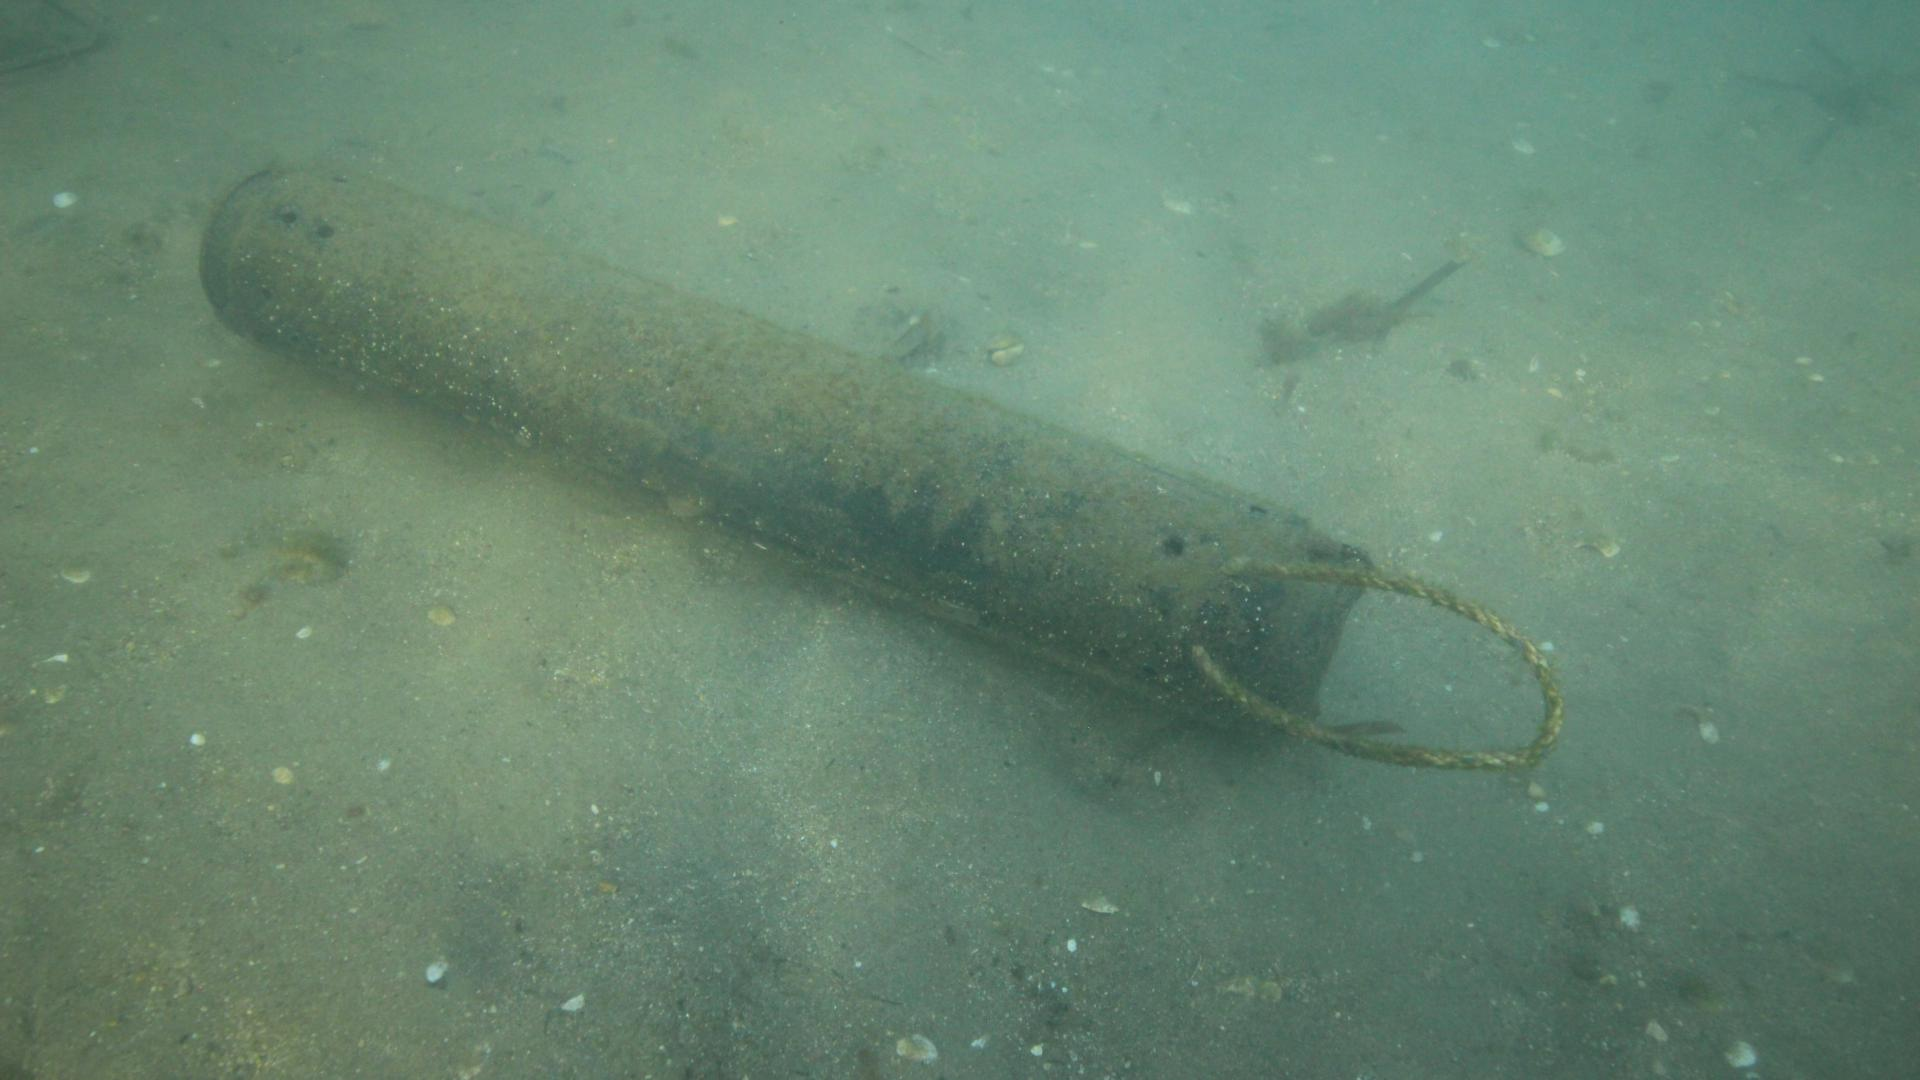eel fish trap: (196, 164, 1375, 738)
rope: (1188, 555, 1563, 769)
